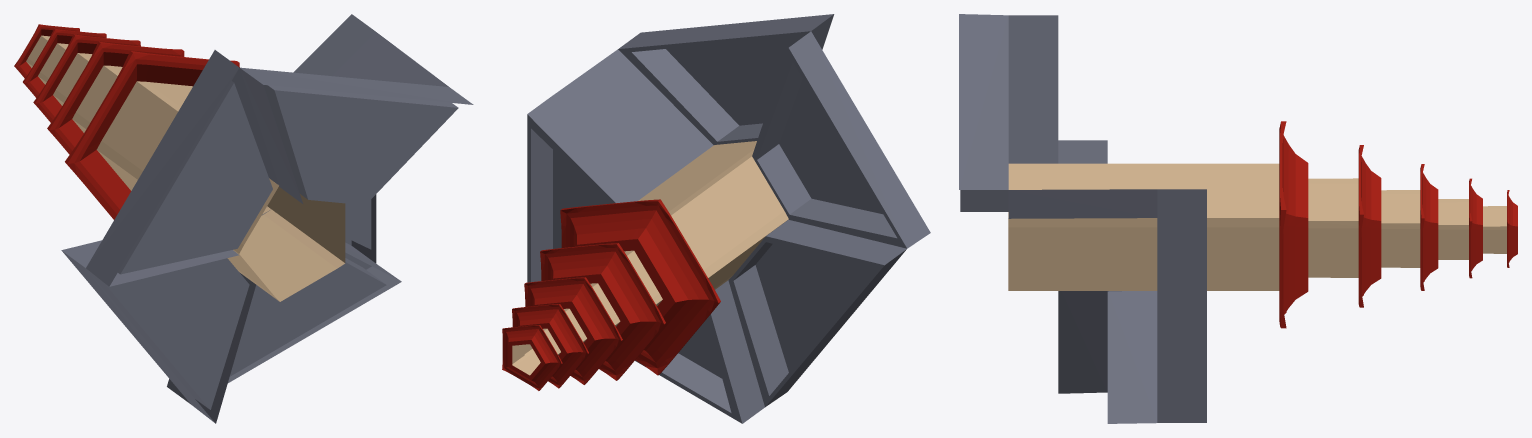
File: tower.dae
3 views of the same model, side by side, from view 1: azimuth 30°, elevation 25°; view 2: azimuth 150°, elevation 25°; view 3: azimuth 270°, elevation 25° (orthographic). The views are drawn at different scales.
Parts seen in each view (by area): view 1: Cube_002, Plane_004; view 2: Cube_002, Plane_004; view 3: Plane_004, Cube_002.
Part boxes in pixels (x1,y1,x2,y2): Cube_002: [61, 14, 473, 423]; Plane_004: [14, 24, 345, 301]; Cube_002: [527, 14, 930, 423]; Plane_004: [502, 141, 788, 390]; Plane_004: [1008, 121, 1517, 328]; Cube_002: [959, 14, 1206, 423].
Bounding box in the file's own units: 9.95 × 13.96 × 10.45.
